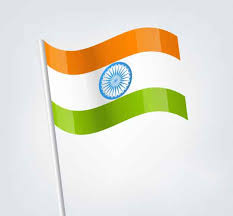flag: (38, 23, 201, 136)
